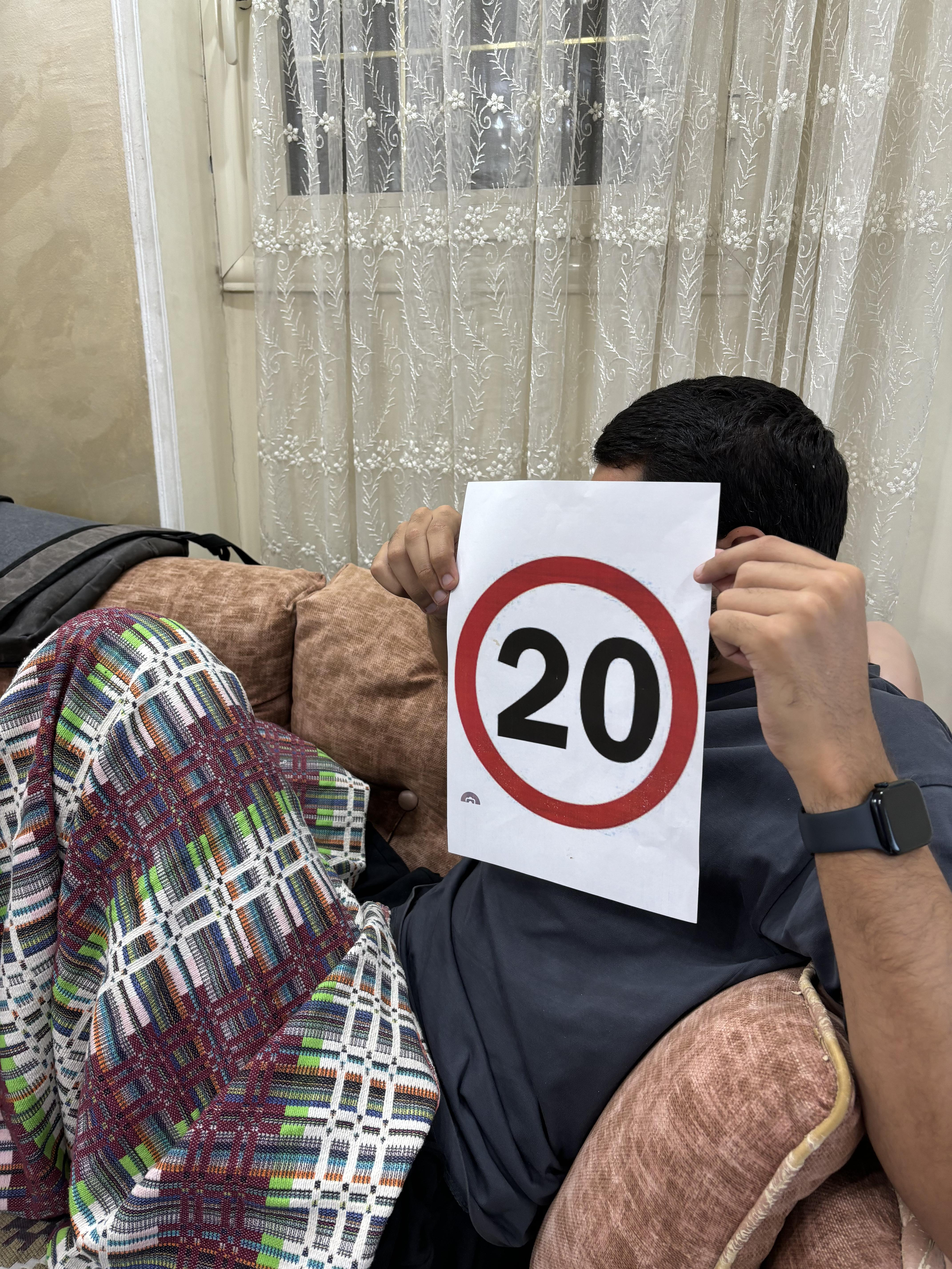20-Speed: (454, 551, 703, 833)
